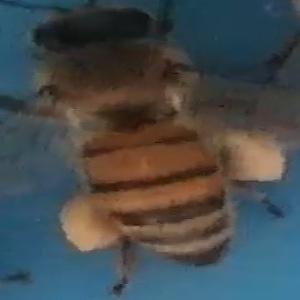bee: (10, 2, 292, 299)
